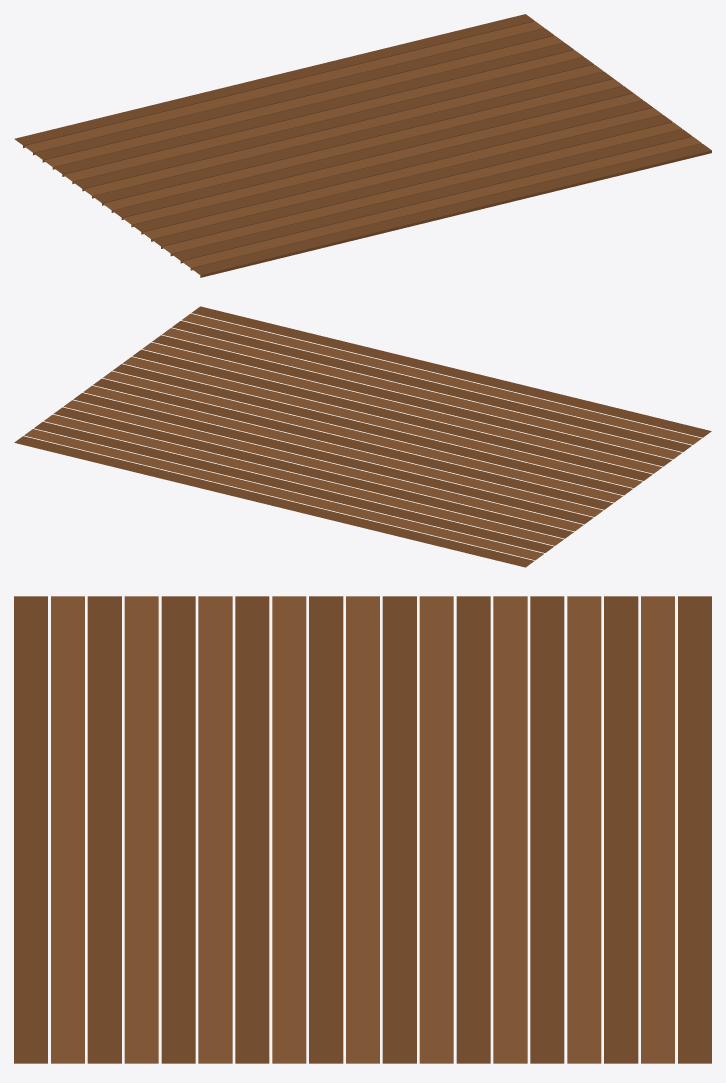
File: terrace_deck.glb
3 views of the same model, one above another, from view 1: azimuth 30°, elevation 25°; view 2: azimuth 150°, elevation 25°; view 3: azimuth 270°, elevation 25° (orthographic). The views are drawn at different scales.
Parts seen in each view (by area): view 1: terrace_deck; view 2: terrace_deck; view 3: terrace_deck.
Part boxes in pixels (x1,y1,x2,y2): terrace_deck: (14,14,711,277); terrace_deck: (14,306,711,567); terrace_deck: (14,596,711,1063).
Bounding box in the file's own units: 6 × 0.03 × 3.79.
